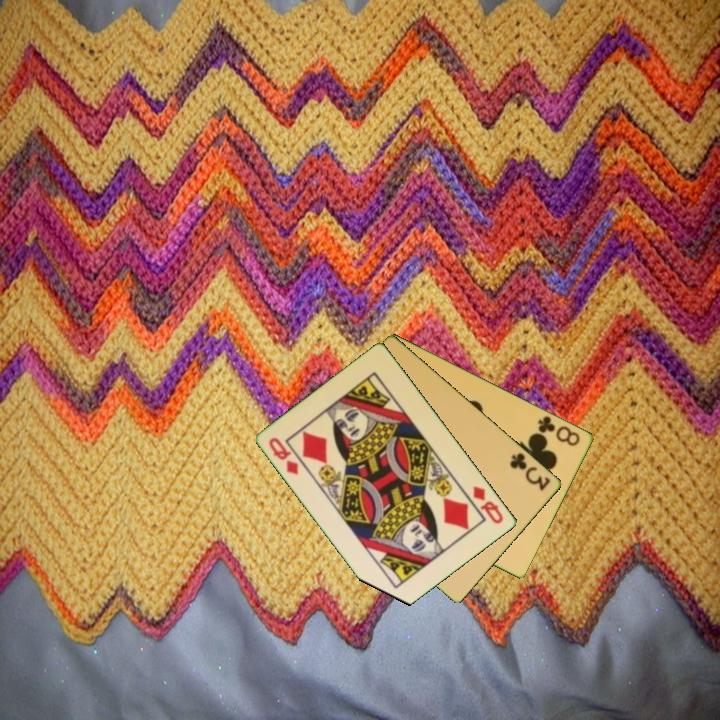3c: (507, 449, 554, 494)
8c: (535, 412, 583, 449)
Qd: (470, 482, 507, 527), (266, 434, 302, 478)
